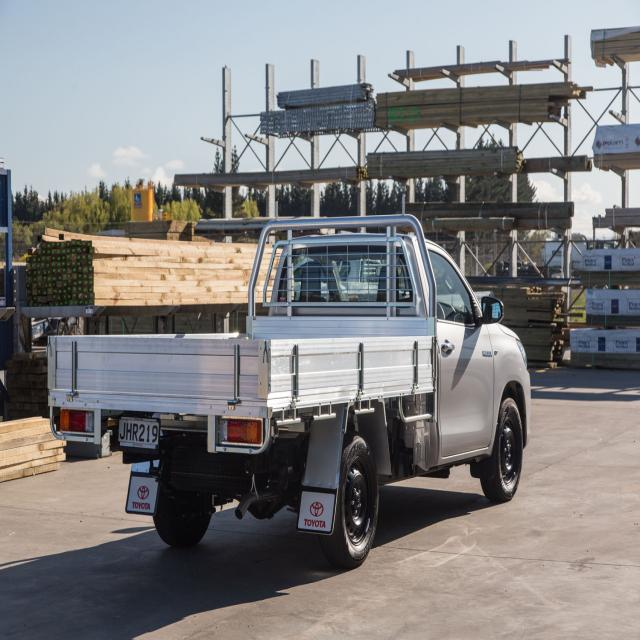light_vehicle: (37, 216, 535, 567)
